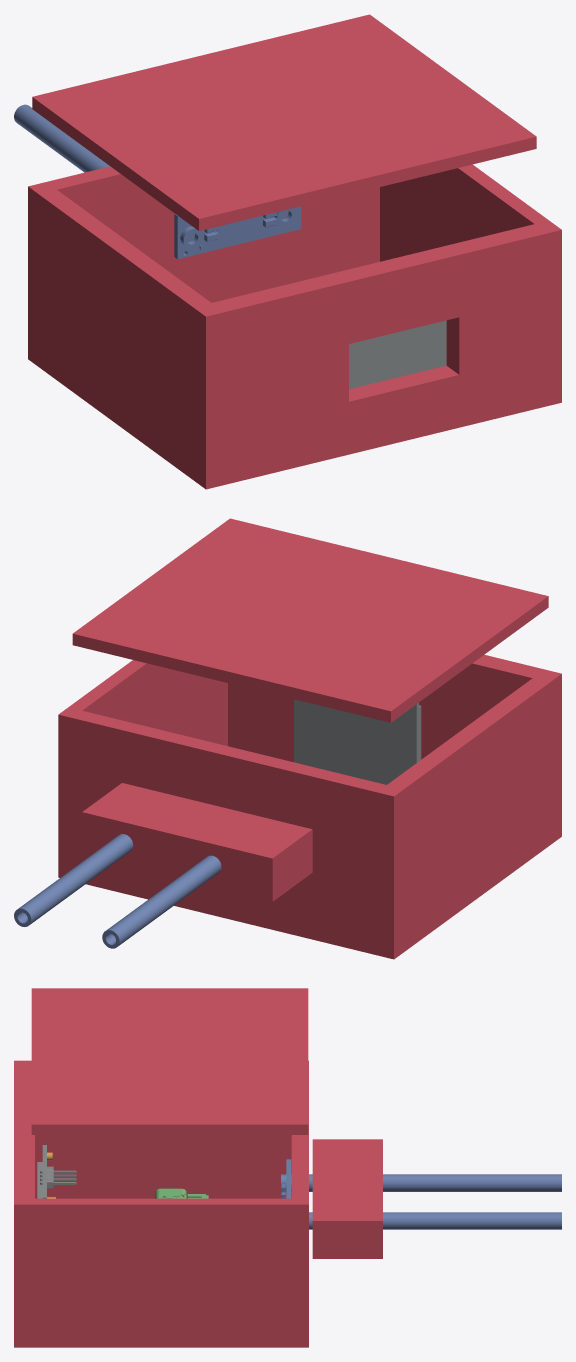
File: sipandpuff.glb
3 renders of one model, top to bottom at view 1: azimuth 30°, elevation 25°; view 2: azimuth 150°, elevation 25°; view 3: azimuth 270°, elevation 25°, orthographic. The views are drawn at different scales.
Parts seen in each view (by area): view 1: Mesh_Mesh_head_geo.001_lambert2SG.001; view 2: Mesh_Mesh_head_geo.001_lambert2SG.001; view 3: Mesh_Mesh_head_geo.001_lambert2SG.001.
Boxes of the visible parts, box(x1,y1,x2,y2) form: Mesh_Mesh_head_geo.001_lambert2SG.001: box(14, 14, 561, 489); Mesh_Mesh_head_geo.001_lambert2SG.001: box(14, 518, 561, 959); Mesh_Mesh_head_geo.001_lambert2SG.001: box(14, 988, 561, 1347).
Size of the model in its own units: 0.097 by 0.0682 by 0.156.
